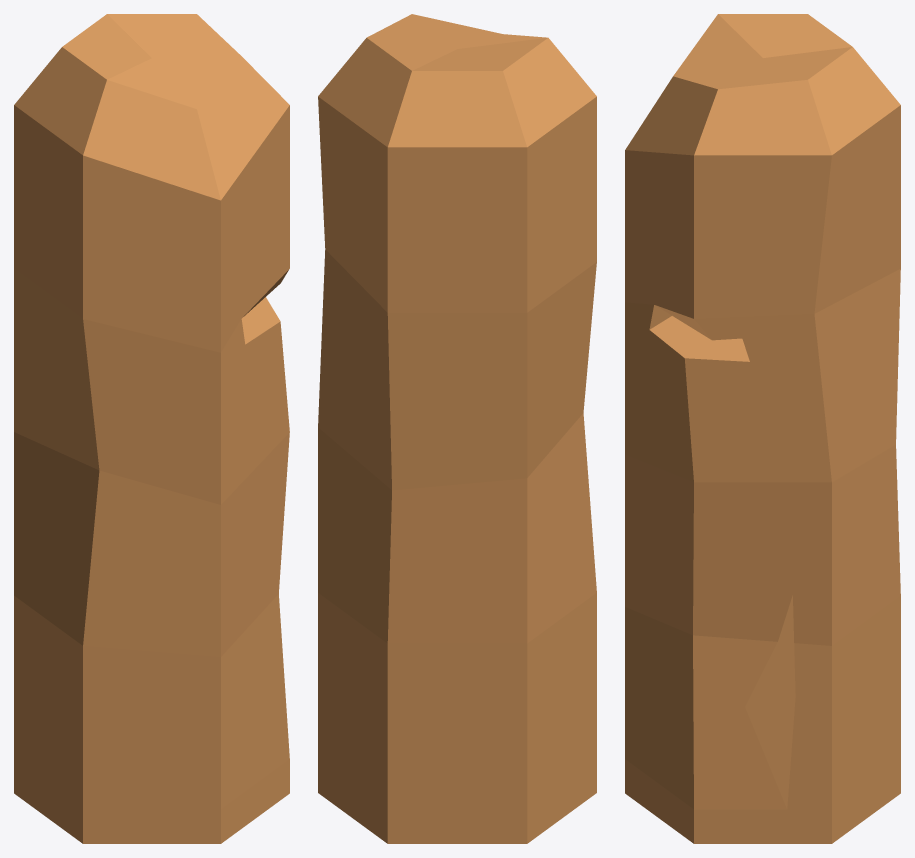
The model's file is Candlewaxisfixed.fbx.
3 views of the same model, side by side, from view 1: azimuth 30°, elevation 25°; view 2: azimuth 150°, elevation 25°; view 3: azimuth 270°, elevation 25° (orthographic).
Parts seen in each view (by area): view 1: Candle Remade; view 2: Candle Remade; view 3: Candle Remade.
Boxes of the visible parts, left/top/right/bottom form: Candle Remade: left=14, top=14, right=289, bottom=843; Candle Remade: left=318, top=14, right=596, bottom=843; Candle Remade: left=625, top=14, right=900, bottom=843.
Bounding box in the file's own units: 89.66 × 307 × 103.
